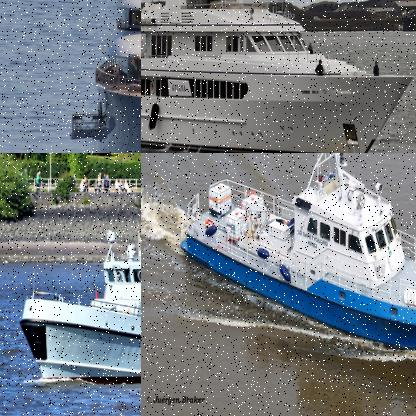Patrol Boat: (179, 153, 415, 355), (19, 153, 140, 383)
Yacht: (141, 0, 415, 152), (70, 0, 140, 152)
